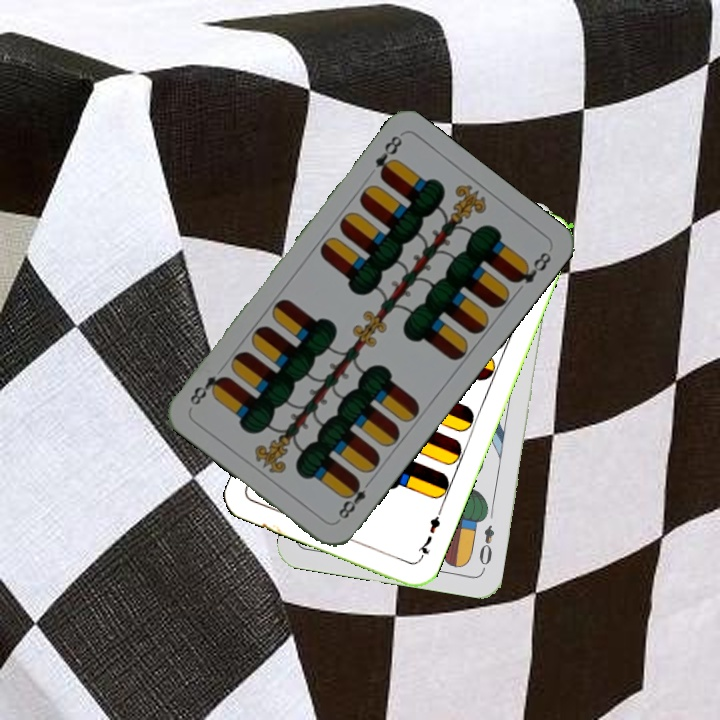E7: (413, 507, 444, 564)
E8: (333, 475, 375, 524), (371, 131, 405, 182)
EO: (475, 521, 497, 573)
